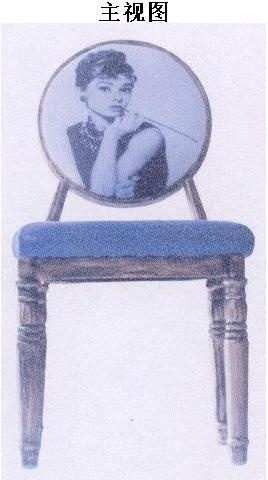obstacle: (13, 40, 253, 467)
